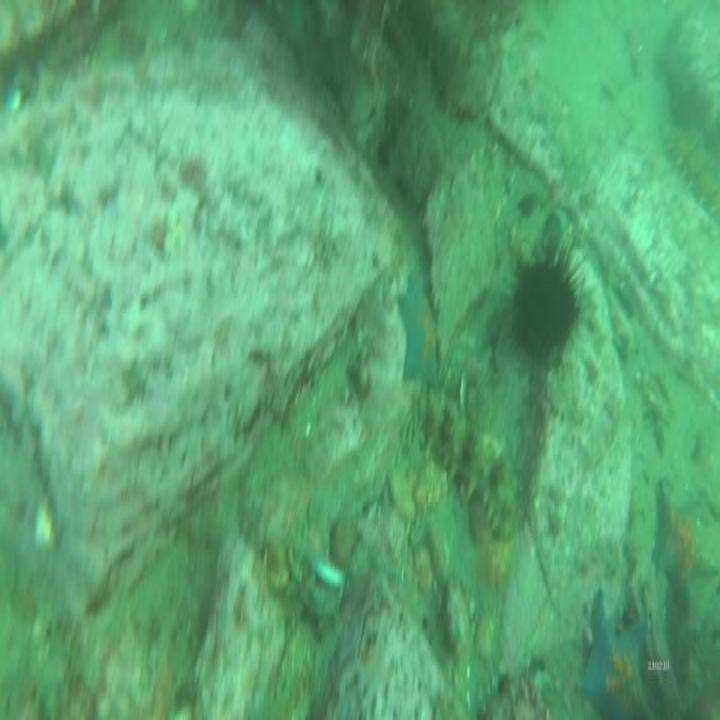echinus: (519, 265, 575, 354)
holothurian: (420, 395, 517, 537), (662, 126, 720, 219)
starfish: (575, 594, 650, 718), (650, 482, 717, 592), (399, 281, 440, 387)
